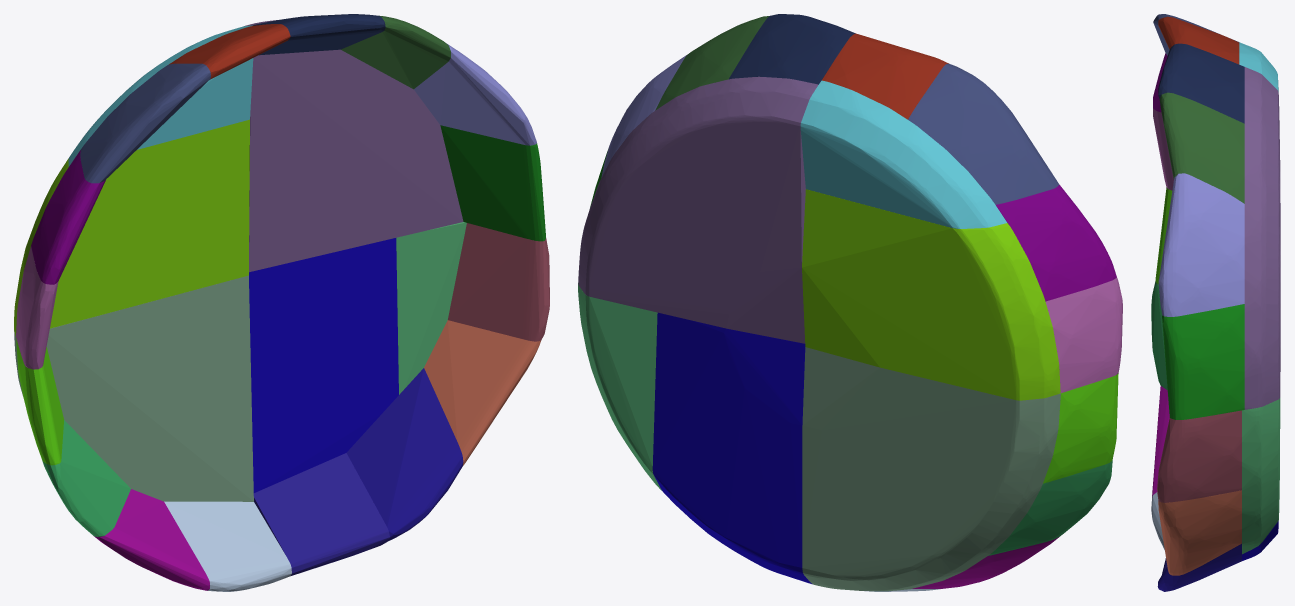
The model's file is coacd_collision.obj.
3 renders of one model, left to right at view 1: azimuth 30°, elevation 25°; view 2: azimuth 150°, elevation 25°; view 3: azimuth 270°, elevation 25°, orthographic. The views are drawn at different scales.
Parts seen in each view (by area): view 1: geometry_1, geometry_0, geometry_5, geometry_4, geometry_20, geometry_18, geometry_13, geometry_9, geometry_8, geometry_6, geometry_3, geometry_16 (+10 smaller); view 2: geometry_0, geometry_1, geometry_4, geometry_5, geometry_2, geometry_16, geometry_3, geometry_11, geometry_7, geometry_15, geometry_21, geometry_17 (+4 smaller); view 3: geometry_1, geometry_12, geometry_8, geometry_13, geometry_19, geometry_9, geometry_3, geometry_21, geometry_15, geometry_20, geometry_10, geometry_14 (+7 smaller).
Part boxes in pixels (x1,y1,x2,y2): geometry_1: (244, 20, 463, 272); geometry_0: (14, 275, 253, 501); geometry_5: (249, 238, 398, 492); geometry_4: (14, 119, 249, 336); geometry_20: (346, 368, 463, 540); geometry_18: (253, 453, 389, 575); geometry_13: (448, 223, 549, 341); geometry_9: (424, 320, 541, 465); geometry_8: (440, 125, 545, 241); geometry_6: (164, 501, 291, 591); geometry_3: (396, 222, 466, 394); geometry_16: (80, 63, 210, 183); geometry_0: (802, 347, 1060, 591); geometry_1: (578, 76, 818, 343); geometry_4: (802, 189, 1060, 400); geometry_5: (652, 312, 812, 584); geometry_2: (800, 80, 1007, 228); geometry_16: (908, 63, 1059, 204); geometry_3: (578, 283, 661, 490); geometry_11: (996, 184, 1116, 301); geometry_7: (1045, 277, 1122, 392); geometry_15: (822, 33, 948, 119); geometry_21: (729, 14, 855, 84); geometry_17: (1043, 373, 1118, 483); geometry_1: (1244, 67, 1280, 409); geometry_12: (1158, 173, 1244, 316); geometry_8: (1162, 304, 1244, 419); geometry_13: (1157, 410, 1241, 502); geometry_19: (1159, 92, 1244, 203); geometry_9: (1158, 490, 1241, 575); geometry_3: (1242, 398, 1280, 554); geometry_21: (1158, 43, 1244, 123); geometry_15: (1158, 16, 1239, 64); geometry_20: (1157, 543, 1241, 591); geometry_10: (1151, 281, 1167, 389); geometry_14: (1152, 386, 1169, 497).
Bounding box in the file's own units: 205 × 207 × 46.81.
